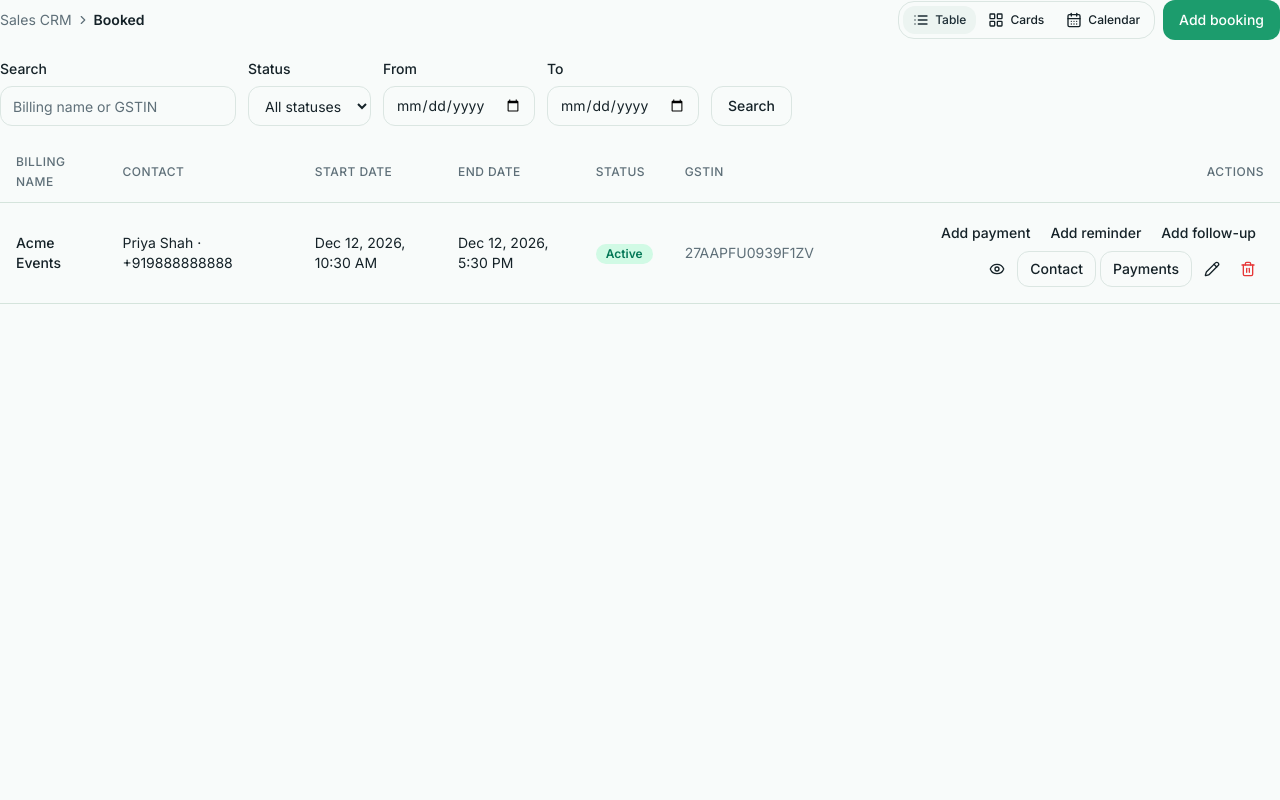
CRM modules › opens a booked view sidebar from the booked row
Click the button named "View" at (997, 269), box [981,253,1013,285]
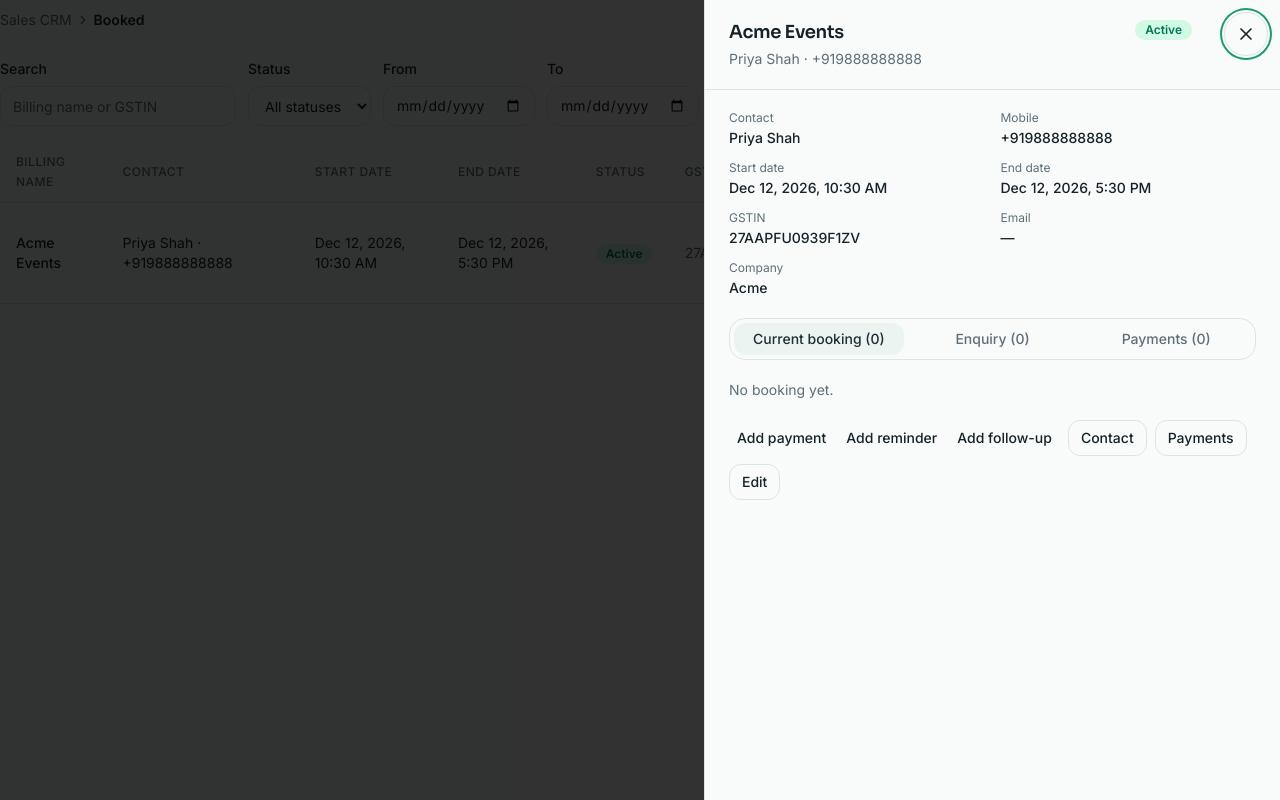
Now the heading "Acme Events" is shown, box [729,21,844,43]
Now the tab "Current booking (0)" is shown, box [734,323,904,355]
Now the tab "Enquiry (0)" is shown, box [908,323,1077,355]
